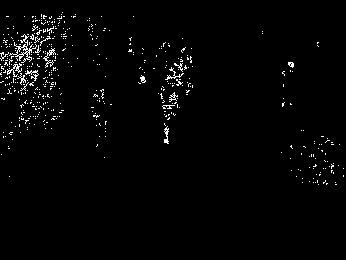person: (158, 68, 181, 146)
